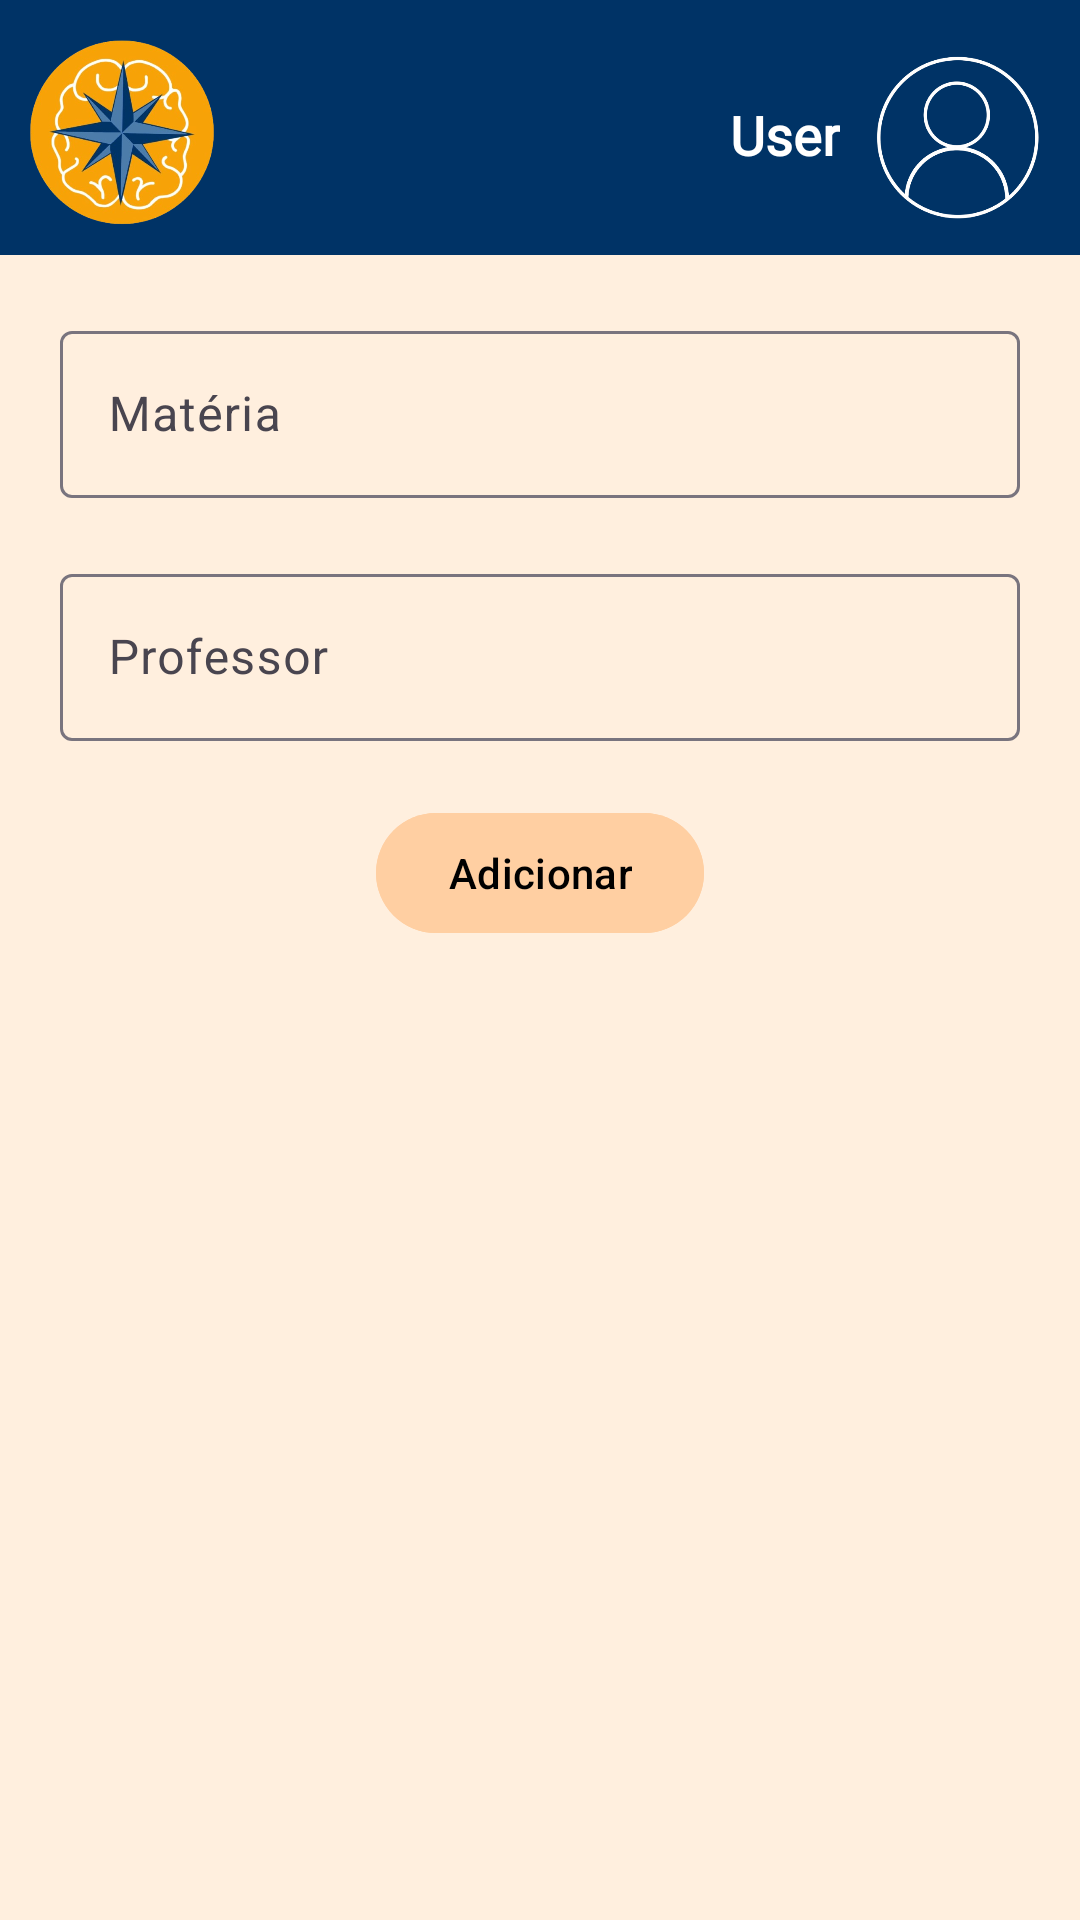

Where to tap for icons on this 1080x1920 app screen, as (x=x, y=y):
perfil: (x=958, y=138)
